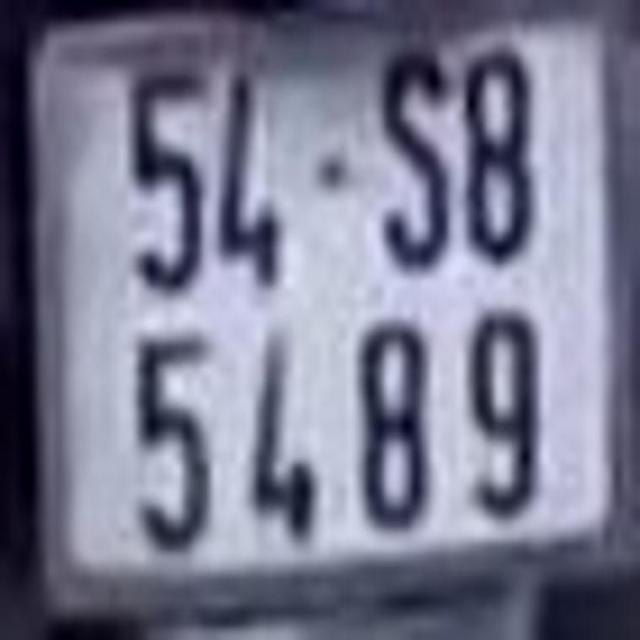4: (247, 321, 325, 546), (215, 71, 283, 291)
5: (123, 63, 208, 292), (131, 327, 212, 555)
8: (356, 313, 432, 536), (466, 47, 537, 266)
9: (462, 300, 545, 518)
S: (374, 42, 455, 277)
